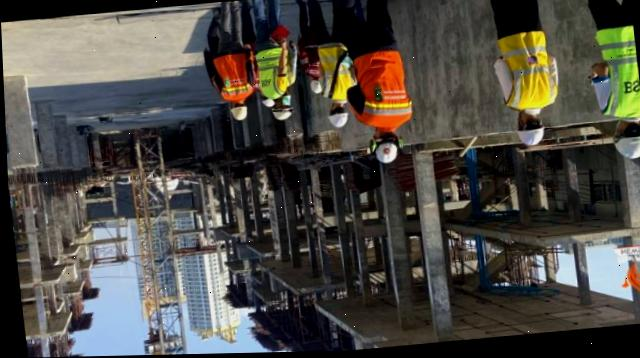helmet: (365, 136, 405, 165), (607, 135, 640, 162), (515, 125, 545, 148), (266, 105, 297, 123), (324, 109, 350, 129), (228, 104, 247, 124), (306, 81, 323, 95), (259, 98, 277, 110)
vest: (351, 45, 412, 132), (497, 31, 554, 115), (596, 27, 640, 121), (316, 44, 355, 102), (213, 50, 252, 102), (254, 50, 287, 100)
